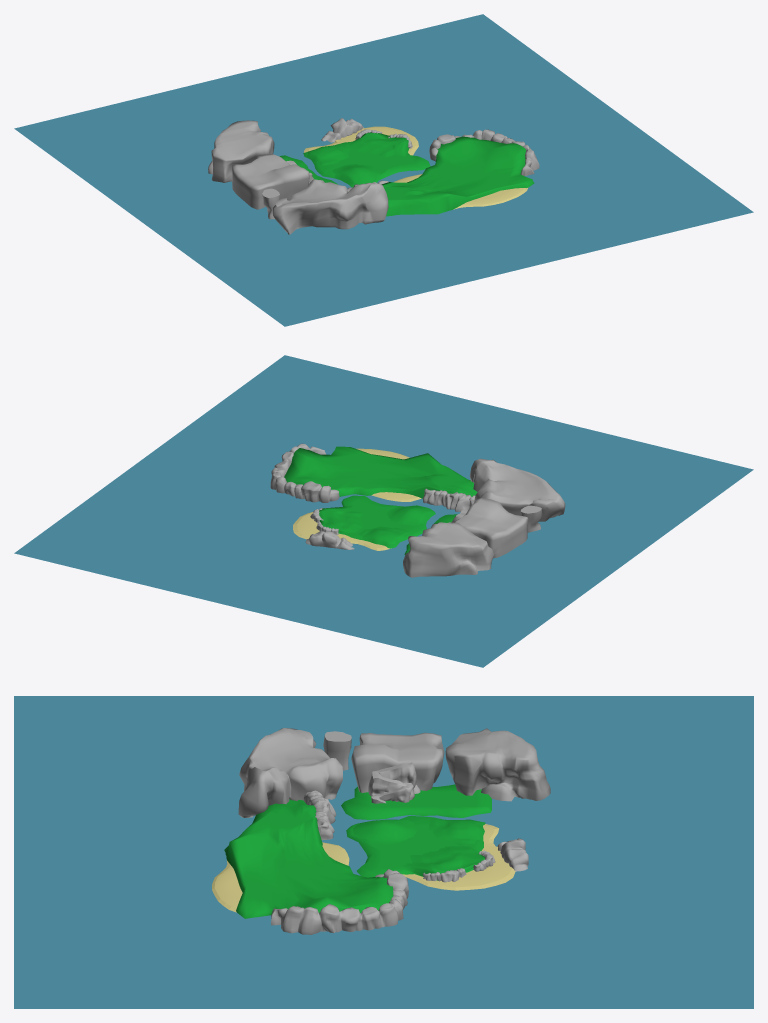
Rendered from Island_To_Unity 1.fbx.
3 views of the same model, one above another, from view 1: azimuth 30°, elevation 25°; view 2: azimuth 150°, elevation 25°; view 3: azimuth 270°, elevation 25° (orthographic). The views are drawn at different scales.
Parts seen in each view (by area): view 1: Ocean_geo, Rear_island_geo, Moon_cliff_Rear, Moon_cliff_Mid, Hills_main_geo, Moon_cliff_front, main_island_grass_geo, Cliff_border_Side_geo, Rear_beach_geo, front_beach_geo, Rocks_ocean_geo; view 2: Ocean_geo, Rear_island_geo, Moon_cliff_front, Moon_cliff_Rear, Moon_cliff_Mid, Hills_main_geo, main_island_grass_geo, Cliff_border_front_geo, cliffs_mansion_geo, front_beach_geo, Rocks_ocean_geo, Cliff_border_Side_geo; view 3: Ocean_geo, Rear_island_geo, Moon_cliff_Rear, Moon_cliff_front, Hills_main_geo, Moon_cliff_Mid, Side_island_geo, Cliff_border_Side_geo, main_island_grass_geo, front_beach_geo, Ramp_geo, Rear_beach_geo (+4 smaller).
Part boxes in pixels (x1,y1,x2,y2): Ocean_geo: (14, 14, 753, 326); Rear_island_geo: (381, 136, 534, 216); Moon_cliff_Rear: (273, 179, 388, 234); Moon_cliff_Mid: (232, 154, 309, 209); Hills_main_geo: (304, 132, 430, 187); Moon_cliff_front: (208, 120, 274, 182); main_island_grass_geo: (303, 141, 430, 187); Cliff_border_Side_geo: (481, 129, 539, 175); Rear_beach_geo: (453, 188, 527, 209); front_beach_geo: (304, 126, 418, 155); Rocks_ocean_geo: (321, 118, 363, 142); Ocean_geo: (14, 355, 753, 667); Rear_island_geo: (284, 446, 477, 498); Moon_cliff_front: (403, 522, 493, 577); Moon_cliff_Rear: (469, 458, 565, 521); Moon_cliff_Mid: (454, 498, 528, 558); Hills_main_geo: (319, 505, 435, 548); main_island_grass_geo: (338, 495, 435, 548); Cliff_border_front_geo: (275, 476, 339, 502); cliffs_mansion_geo: (422, 488, 475, 511); front_beach_geo: (293, 512, 391, 550); Rocks_ocean_geo: (305, 531, 354, 549); Cliff_border_Side_geo: (270, 443, 326, 489); Ocean_geo: (14, 696, 753, 1008); Rear_island_geo: (224, 799, 393, 918); Moon_cliff_Rear: (238, 728, 342, 817); Moon_cliff_front: (445, 728, 550, 801); Hills_main_geo: (347, 818, 484, 880); Moon_cliff_Mid: (351, 732, 444, 792); Side_island_geo: (341, 784, 491, 819); Cliff_border_Side_geo: (271, 903, 398, 934); main_island_grass_geo: (346, 816, 485, 877); front_beach_geo: (402, 824, 515, 890); Ramp_geo: (368, 762, 420, 803); Rear_beach_geo: (212, 860, 242, 912).
Size of the model in its own units: 551 by 55.21 by 551.
